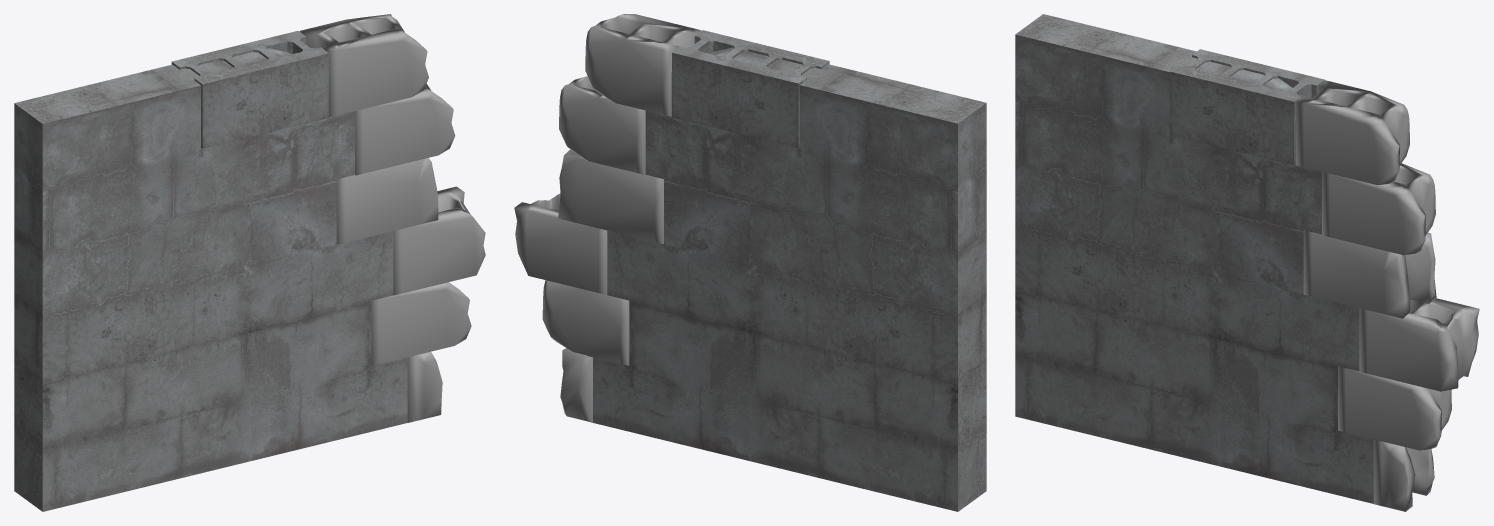
Rendered from wall_Full_Broken_03.fbx.
The picture shows the model from 3 angles, left to right: view 1: azimuth 30°, elevation 25°; view 2: azimuth 150°, elevation 25°; view 3: azimuth 330°, elevation 25°; orthographic projection.
Visible parts, largest first — view 1: wall_Full_Broken_03; view 2: wall_Full_Broken_03; view 3: wall_Full_Broken_03.
Boxes of the visible parts, <box> form: wall_Full_Broken_03: <box>14,14,485,511</box>; wall_Full_Broken_03: <box>514,14,986,511</box>; wall_Full_Broken_03: <box>1015,14,1479,511</box>.
Bounding box in the file's own units: 179 × 151 × 21.66.
2 materials, 1 textured.
